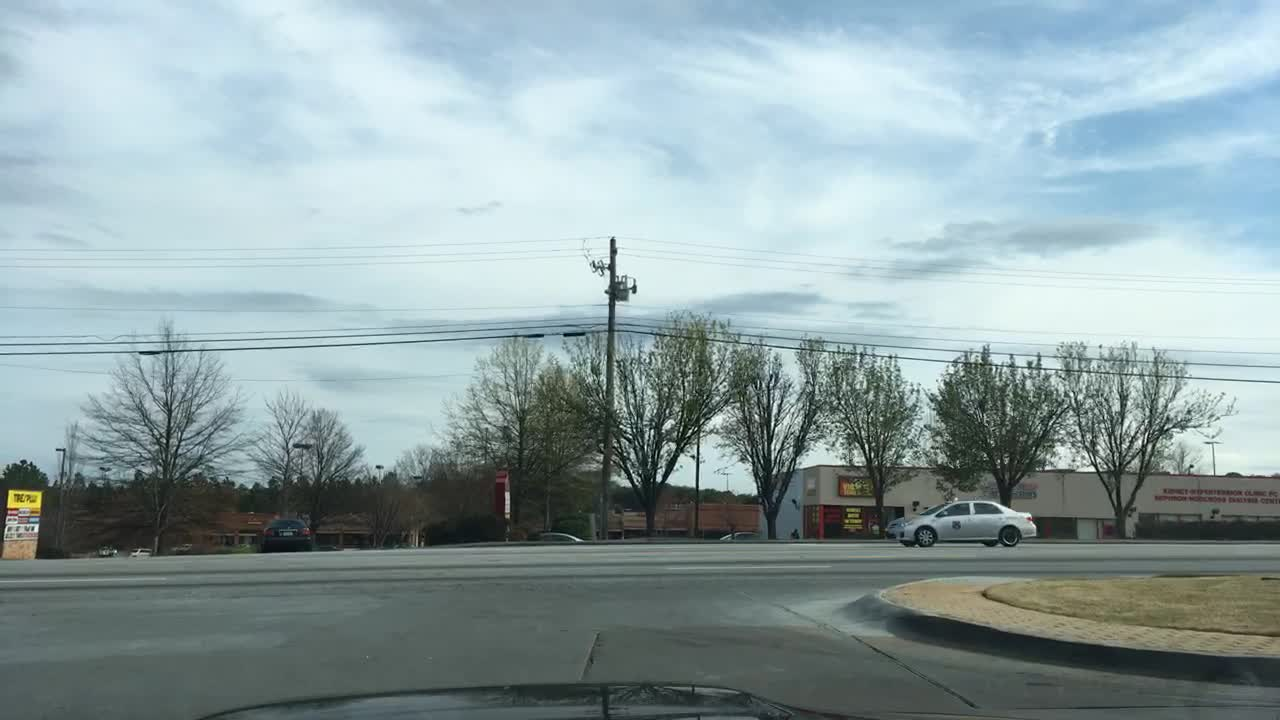car: (883, 499, 1037, 545), (254, 517, 314, 552), (531, 533, 584, 541), (719, 532, 770, 539), (95, 545, 115, 559), (176, 543, 189, 554), (130, 549, 152, 555)
